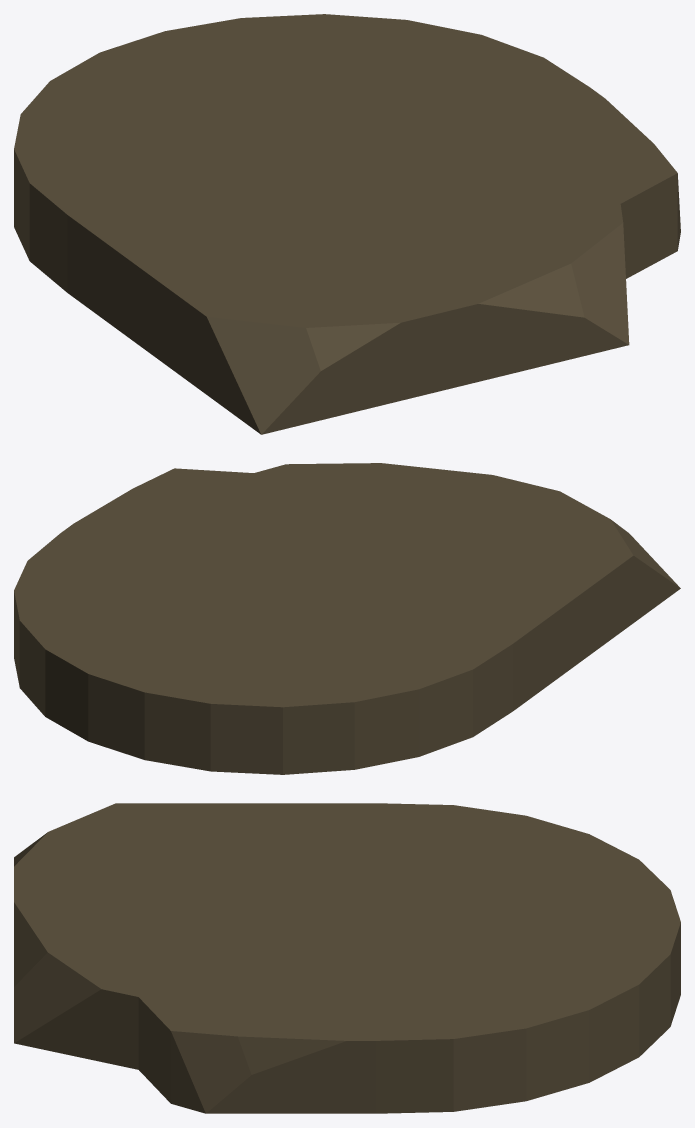
Rendered from ITMI_STONEPLATE_READ_03.OBJ.
3 renders of one model, top to bottom at view 1: azimuth 30°, elevation 25°; view 2: azimuth 150°, elevation 25°; view 3: azimuth 270°, elevation 25°, orthographic. The views are drawn at different scales.
Visible parts, largest first — view 1: ITMI_STONEPLATE_READ_03; view 2: ITMI_STONEPLATE_READ_03; view 3: ITMI_STONEPLATE_READ_03.
Boxes of the visible parts, x1,y1,x2,y2 form: ITMI_STONEPLATE_READ_03: [14, 14, 680, 434]; ITMI_STONEPLATE_READ_03: [14, 463, 680, 774]; ITMI_STONEPLATE_READ_03: [14, 803, 680, 1113].
Bounding box in the file's own units: 0.4191 × 0.0599 × 0.4969.
